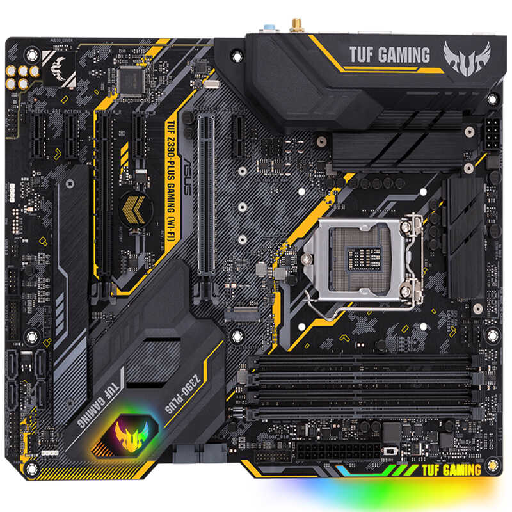CPU: (304, 215, 422, 301)
GPU: (87, 110, 118, 305), (193, 112, 221, 305)
MOTHERBOARD: (2, 33, 508, 481)
RAM: (245, 353, 487, 421)
SSD: (224, 305, 263, 322)
